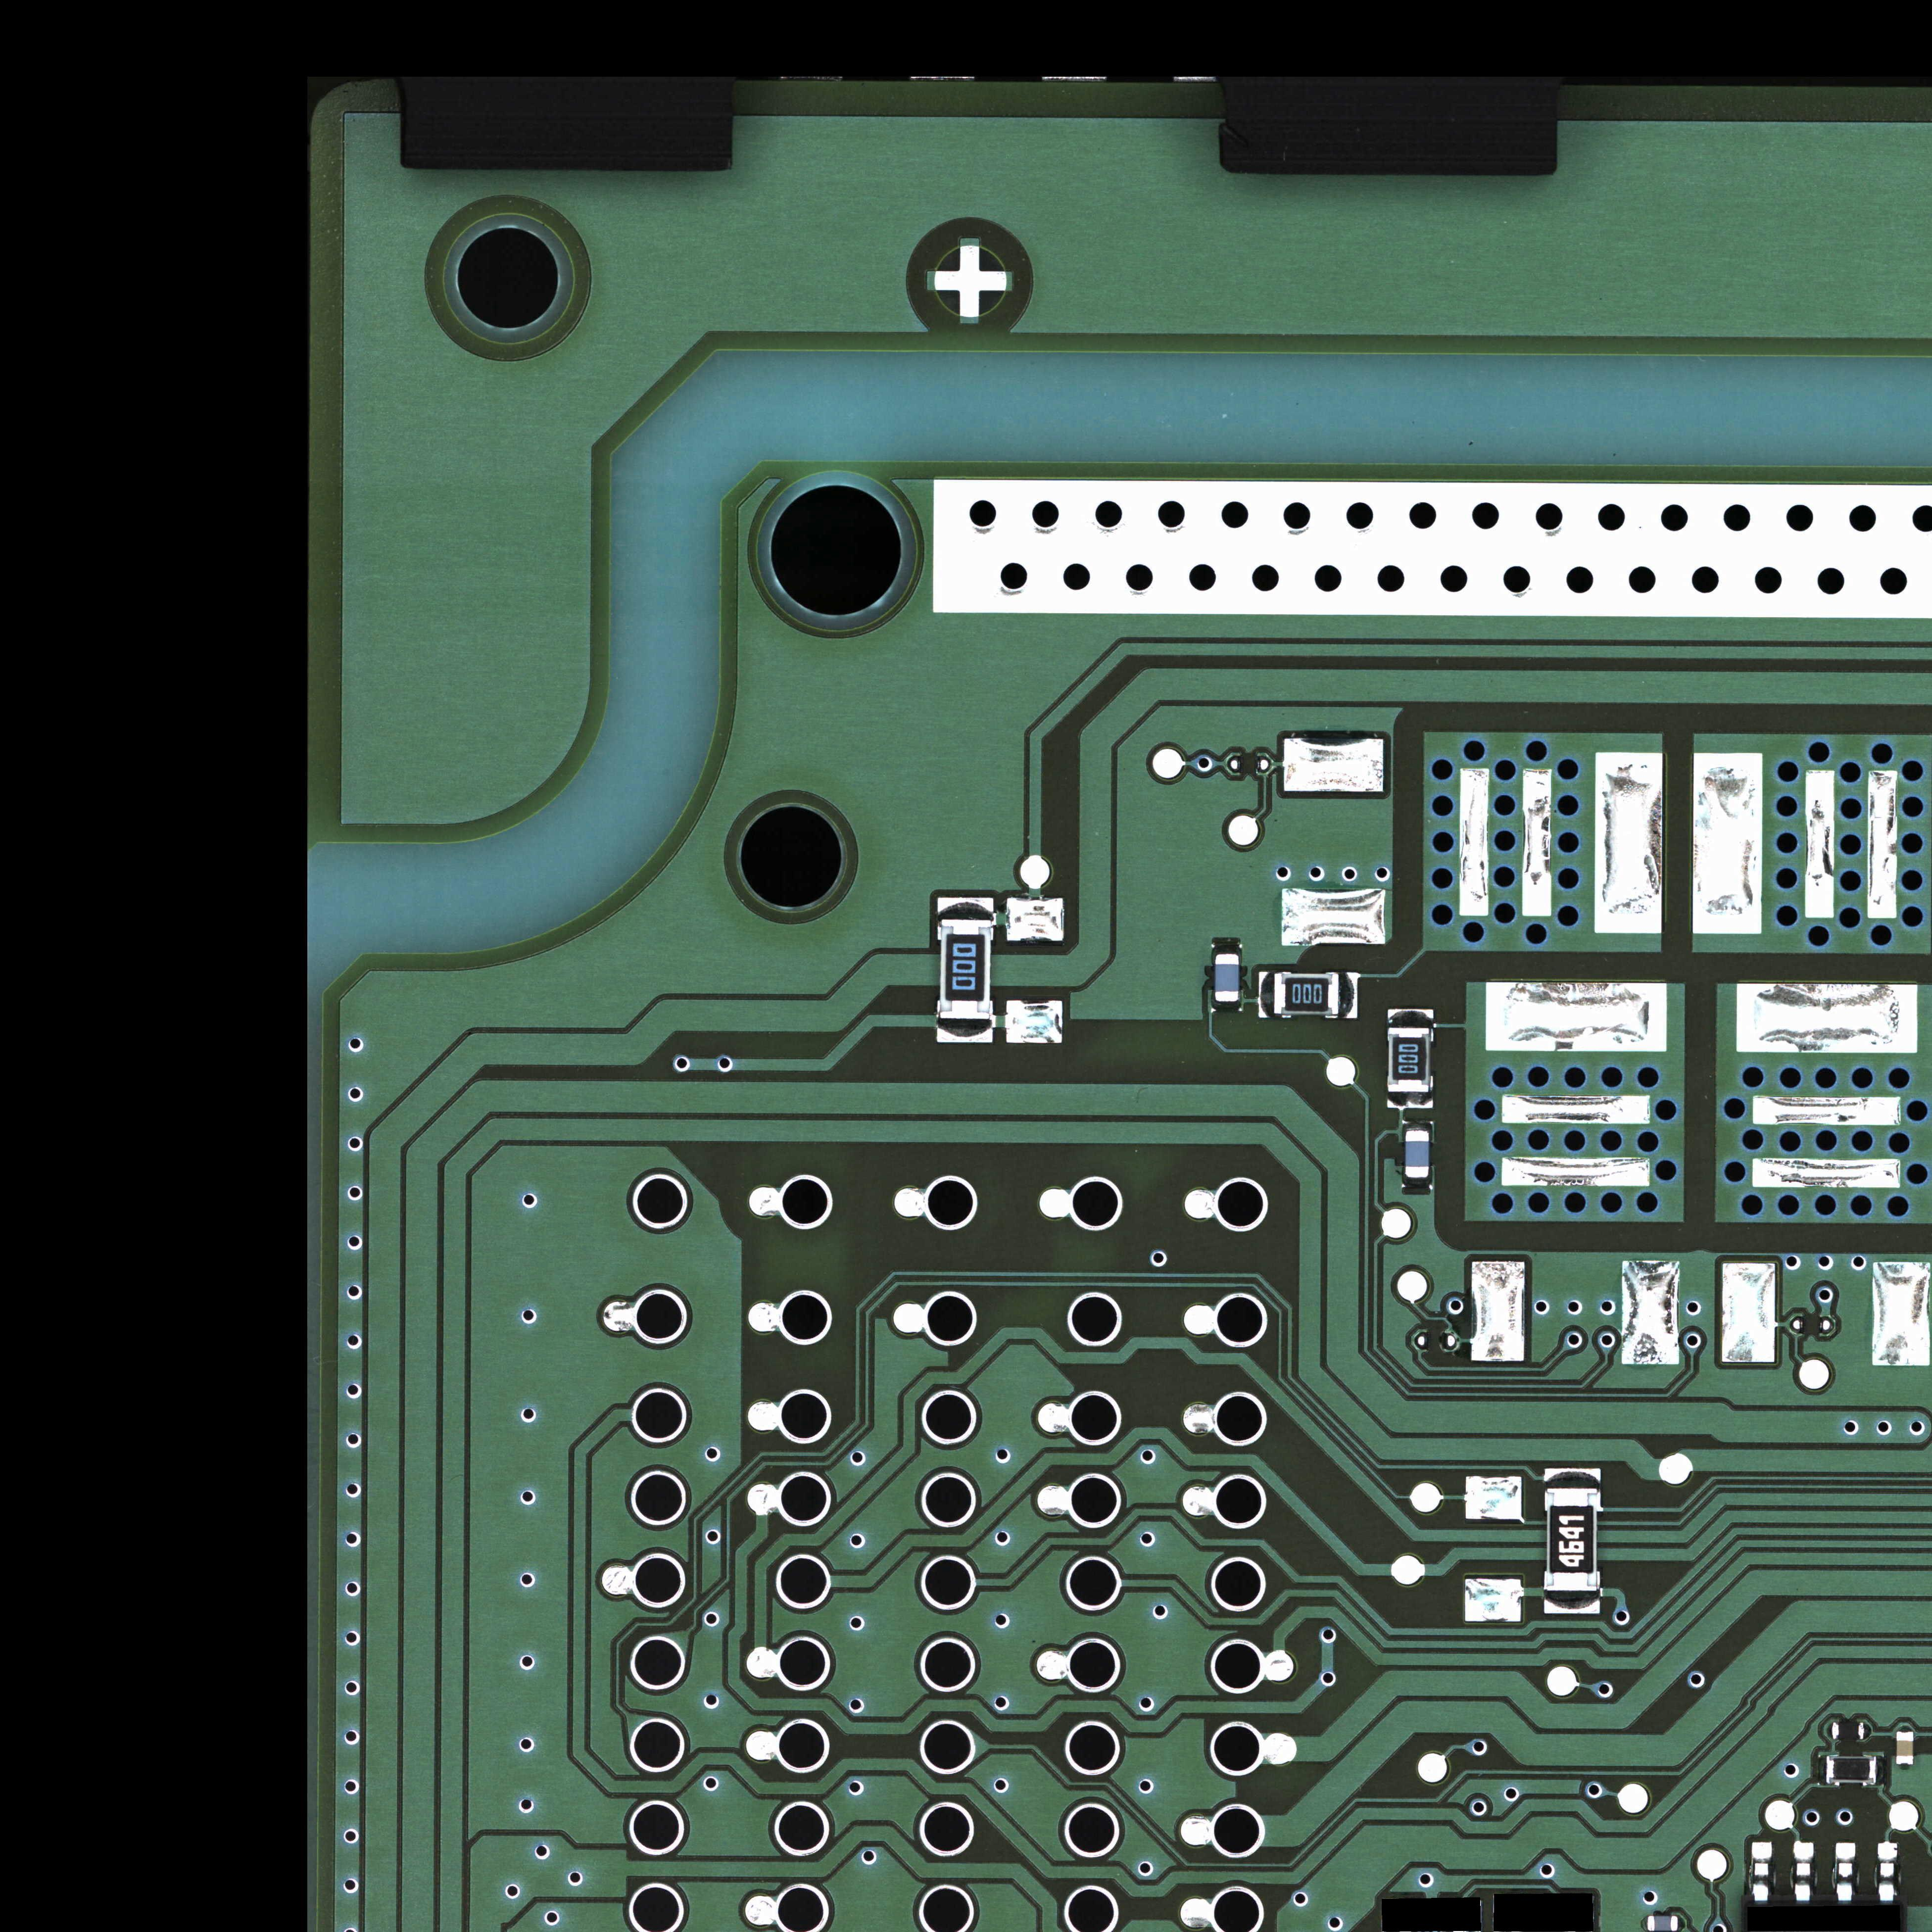Package: (1545, 1488, 1598, 1591), (939, 918, 991, 1019), (1274, 973, 1339, 1016), (1389, 1028, 1430, 1092), (1826, 1757, 1875, 1783), (1405, 1131, 1430, 1178), (1215, 954, 1238, 1003), (1897, 1730, 1914, 1766), (1831, 1721, 1865, 1739), (1647, 1916, 1677, 1930)
Solder: (1543, 1591, 1601, 1614), (936, 1019, 993, 1042), (1752, 1842, 1773, 1902), (1877, 1844, 1898, 1902), (1794, 1842, 1813, 1902), (938, 897, 993, 918), (1543, 1468, 1601, 1488), (1836, 1844, 1856, 1902), (1387, 1008, 1433, 1028), (1339, 971, 1357, 1019), (1387, 1093, 1433, 1109), (1258, 971, 1274, 1017), (1401, 1120, 1435, 1131), (1877, 1753, 1886, 1785), (1817, 1753, 1826, 1785), (1212, 945, 1242, 954), (1212, 1003, 1242, 1012), (1403, 1178, 1431, 1187), (1679, 1916, 1686, 1932), (1640, 1916, 1647, 1932), (1865, 1723, 1870, 1739), (1826, 1723, 1831, 1739), (1897, 1725, 1913, 1730), (1898, 1766, 1913, 1771)
